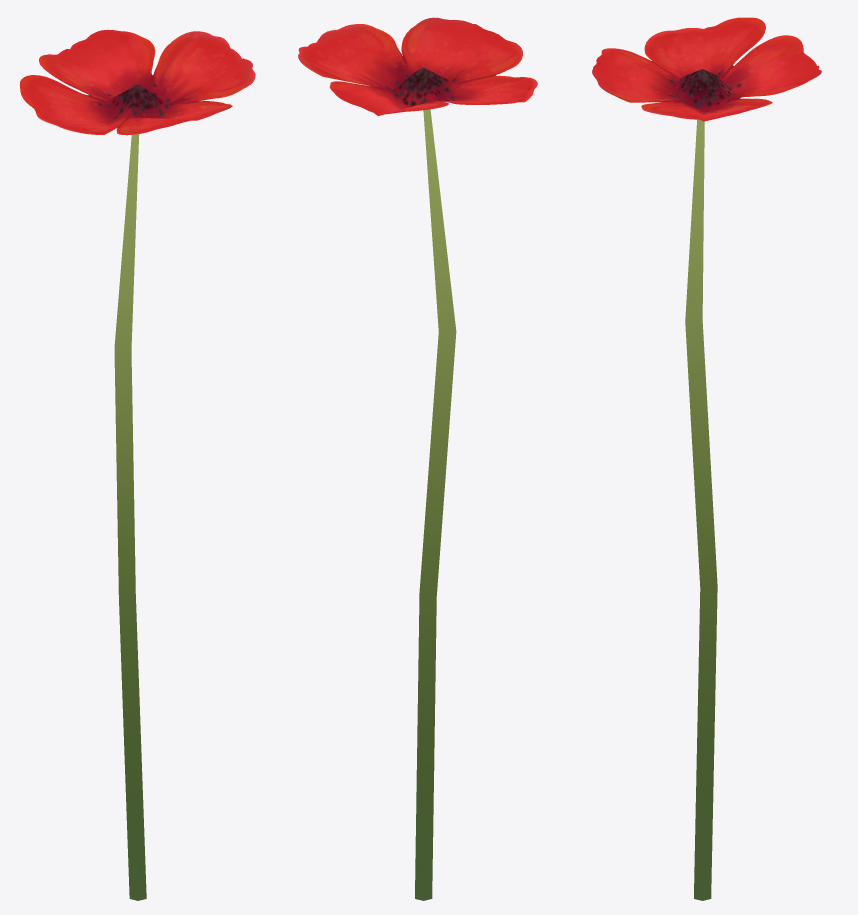
Rendered from poppy_1.fbx.
3 views of the same model, side by side, from view 1: azimuth 30°, elevation 25°; view 2: azimuth 150°, elevation 25°; view 3: azimuth 270°, elevation 25° (orthographic). The views are drawn at different scales.
Visible parts, largest first — view 1: poppy_1_low; view 2: poppy_1_low; view 3: poppy_1_low.
Part boxes in pixels (box(x1,y1,x2,y2)): poppy_1_low: box(19, 29, 255, 900); poppy_1_low: box(298, 17, 537, 900); poppy_1_low: box(592, 17, 821, 900).
Size of the model in its own units: 58 by 193 by 54.97.
